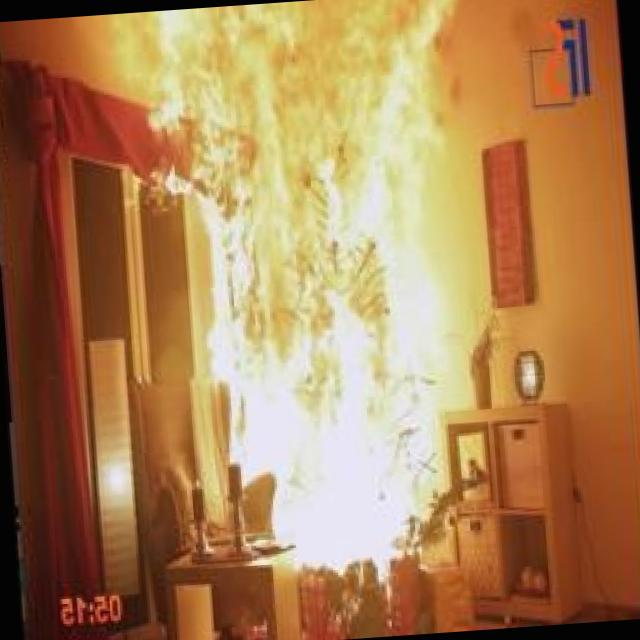fire: (129, 0, 524, 591)
